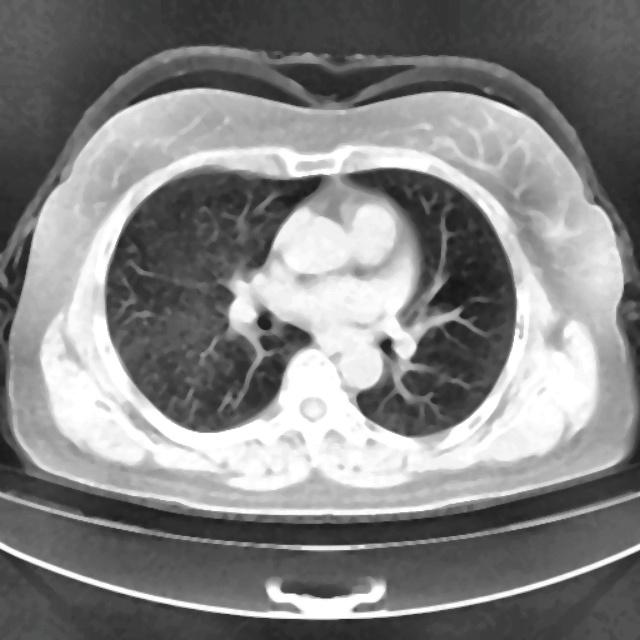covid: (2, 60, 637, 523)
